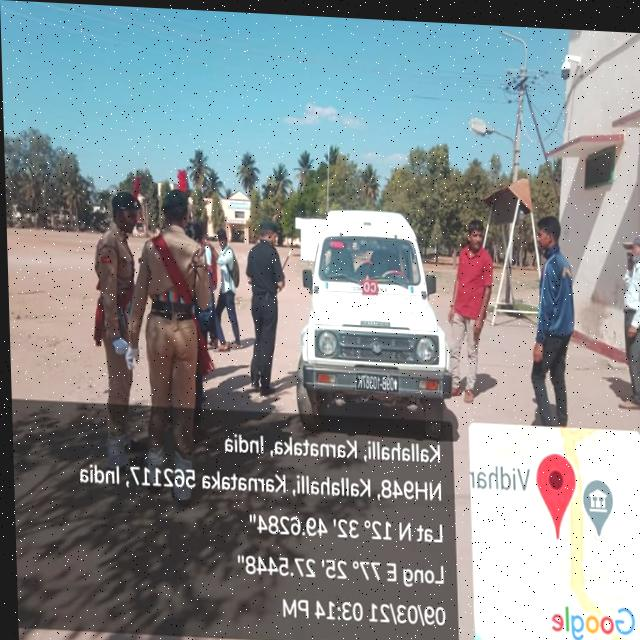plate: (352, 368, 397, 390)
